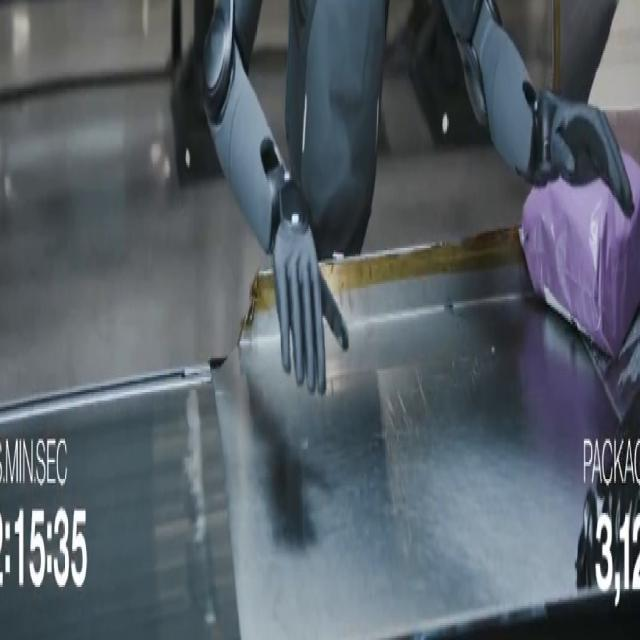package: (520, 153, 639, 358)
